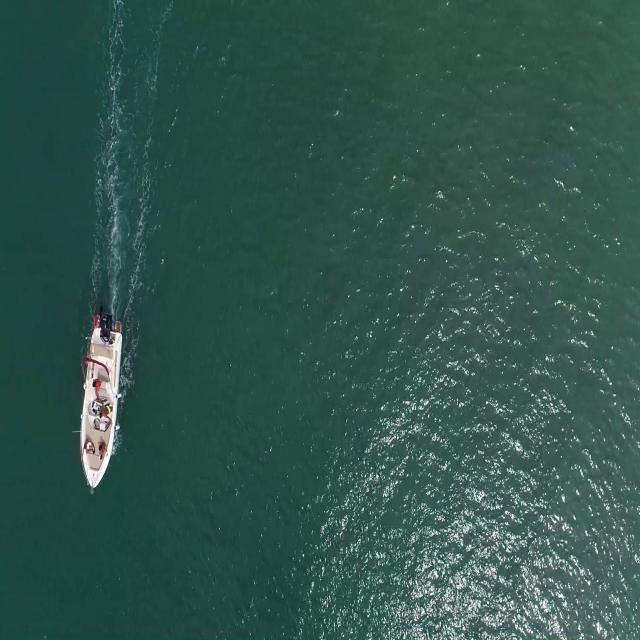boat: (79, 324, 123, 496)
life_buoy: (92, 314, 101, 328)
person: (98, 404, 114, 426), (82, 436, 95, 461), (92, 376, 102, 400), (98, 441, 108, 460)
